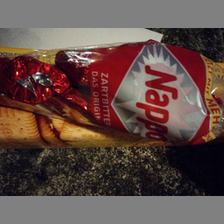chocolate: (1, 44, 224, 149)
